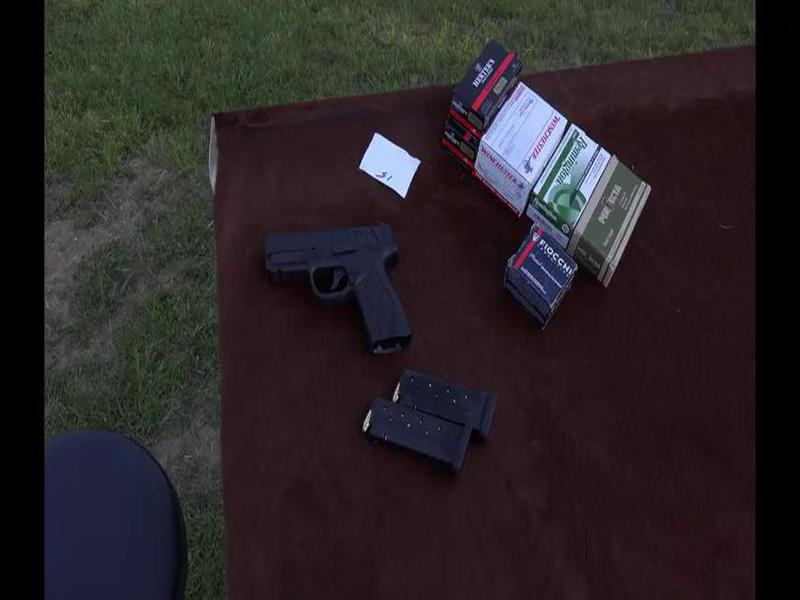Pistola: (248, 208, 427, 370)
